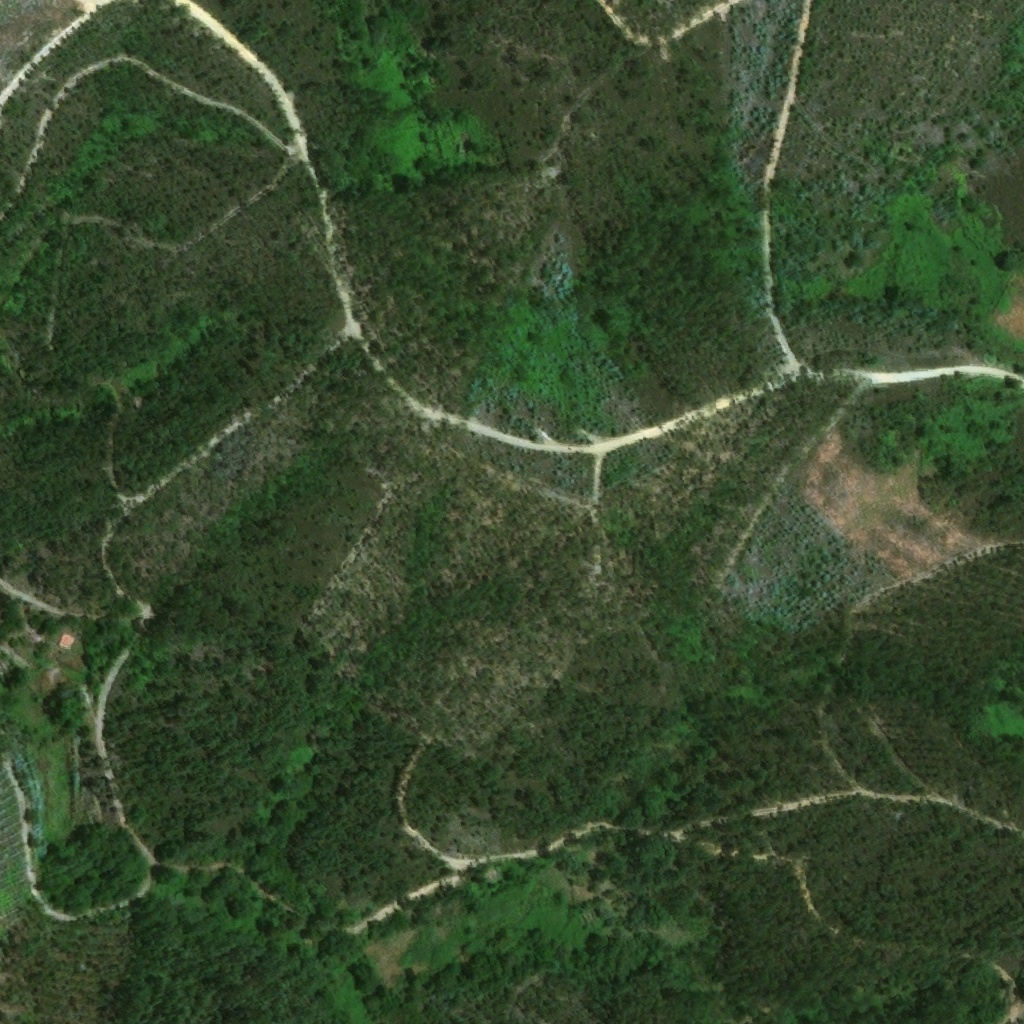0 no-damage: (60, 634, 77, 651)
